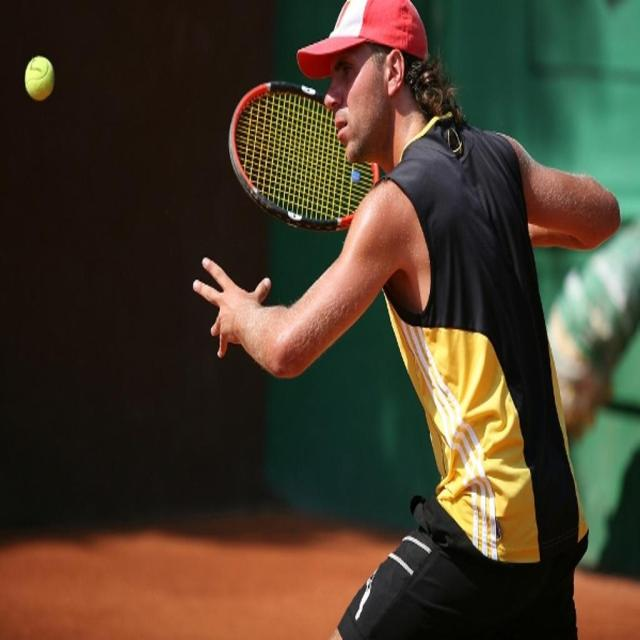Face: (319, 33, 405, 177)
